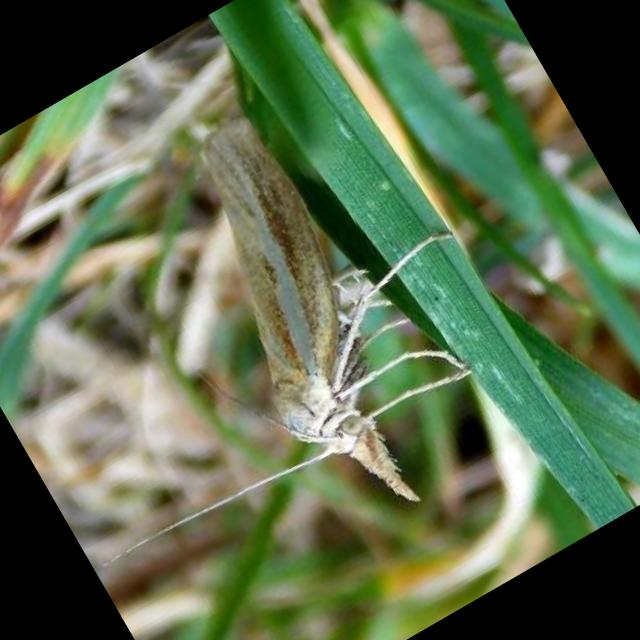stem-borer: (101, 109, 480, 575)
